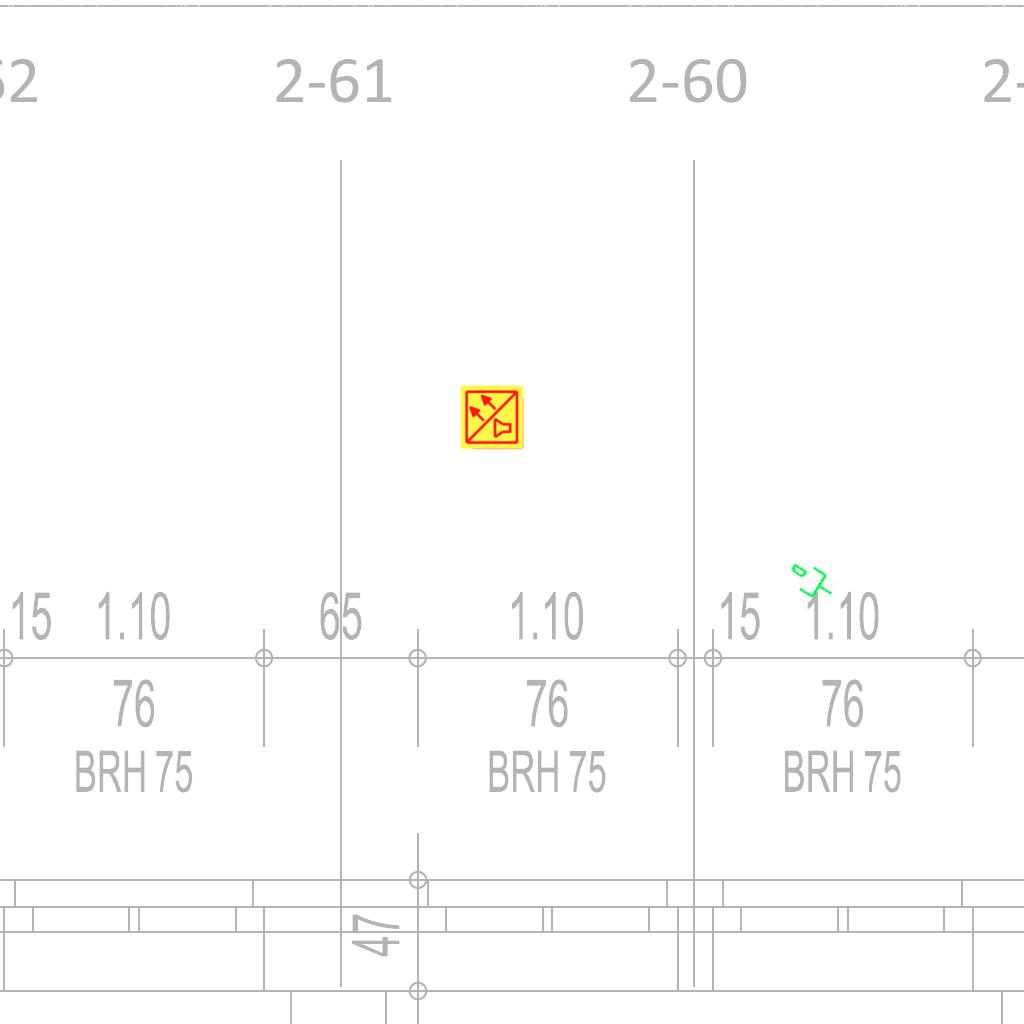Datenanschluss_einfach: (780, 554, 842, 610)
OKW_Multisensormelder_(Kombination_optischer_Rauch-Kahlenmonoxid_Waerme-Melder): (459, 384, 525, 450)
